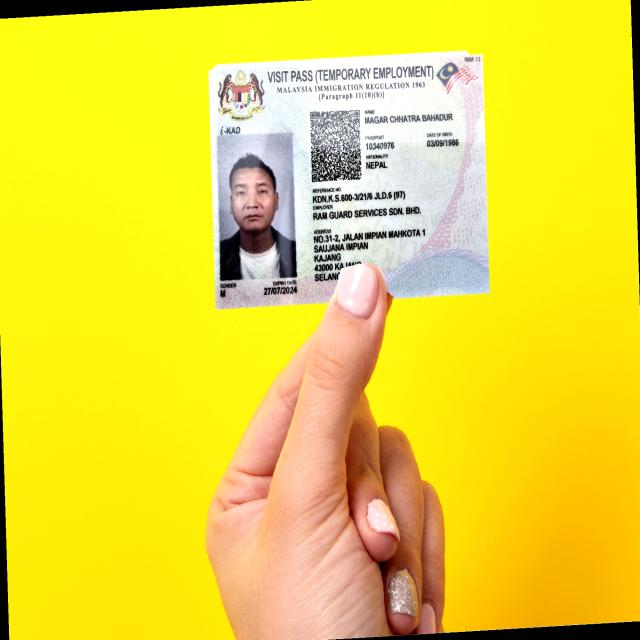ikad-temp: (209, 52, 490, 308)
